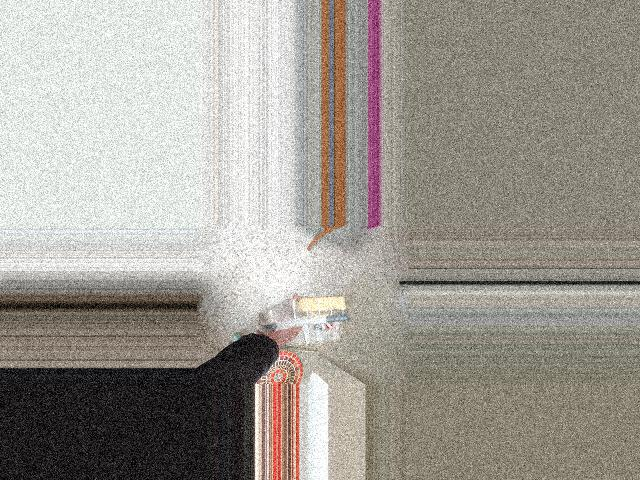cheese: (276, 271, 350, 378)
